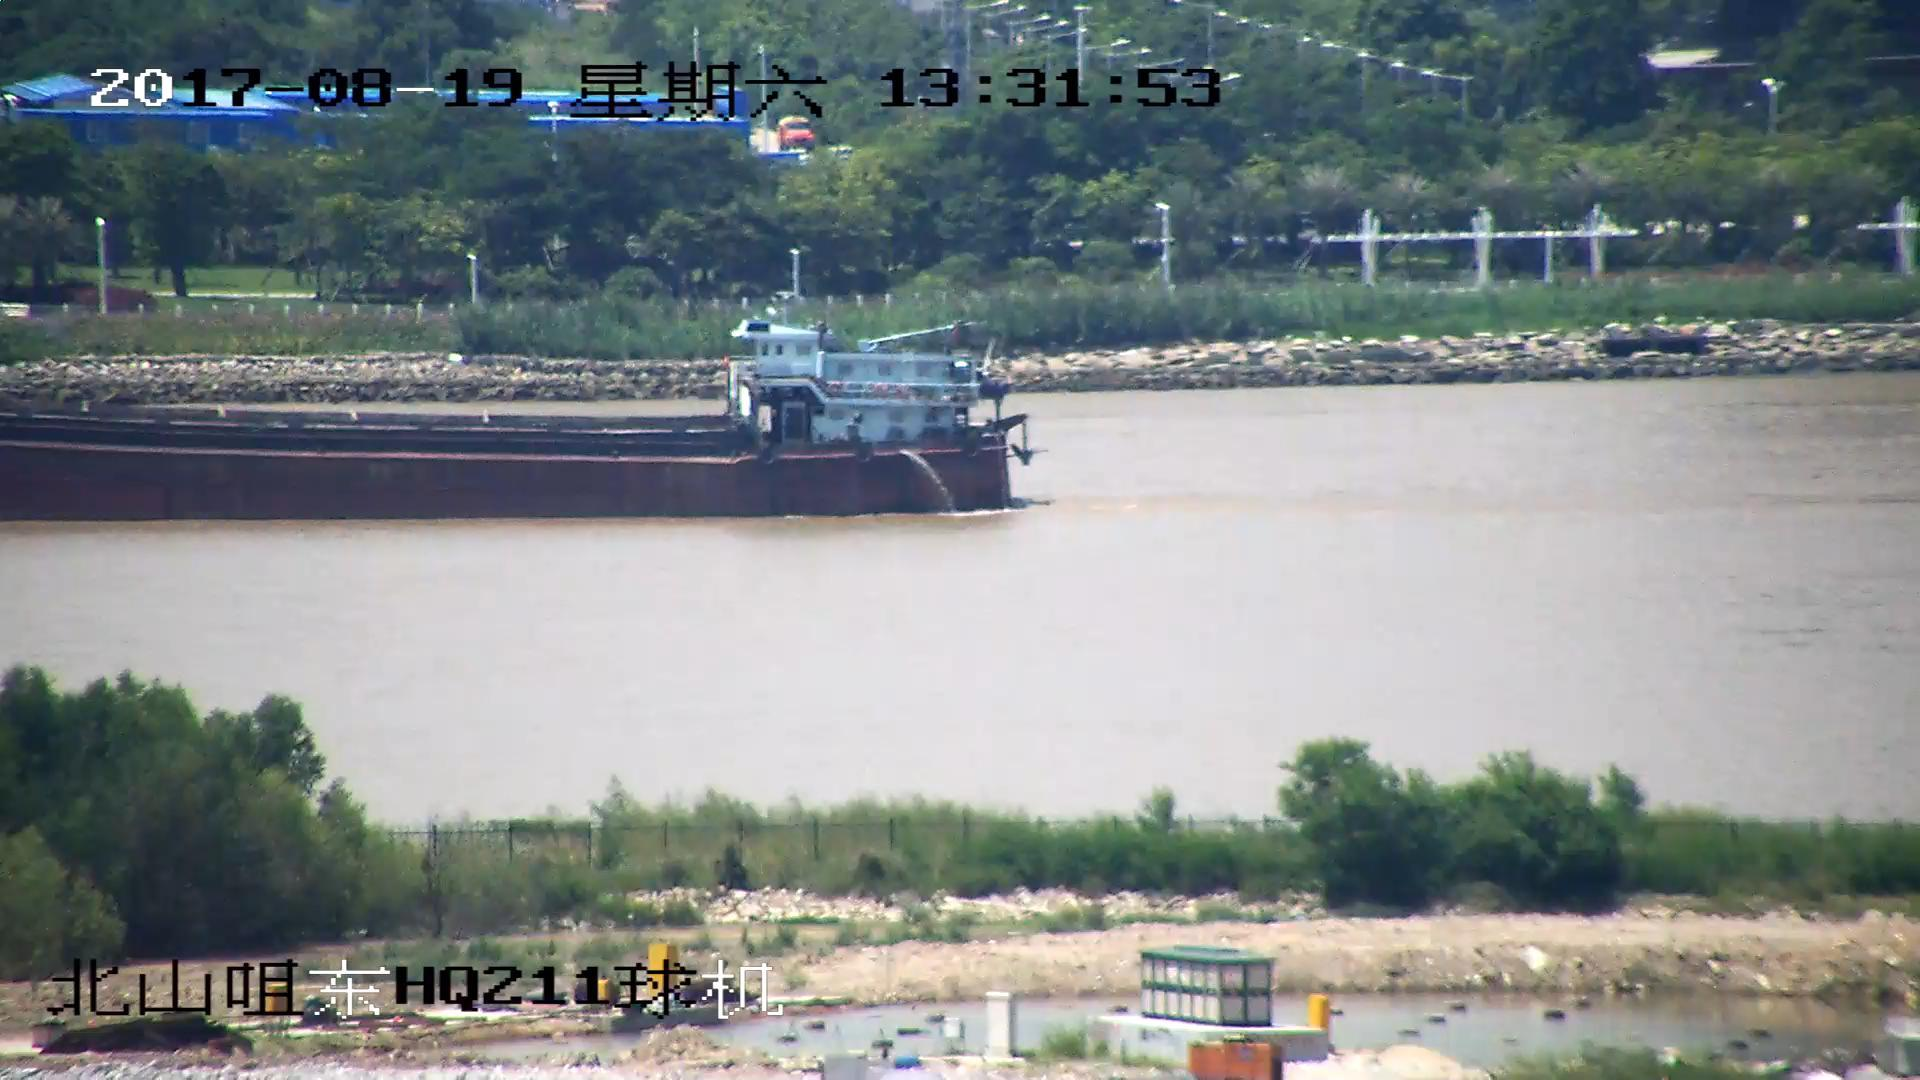Ship: (3, 294, 1035, 520)
